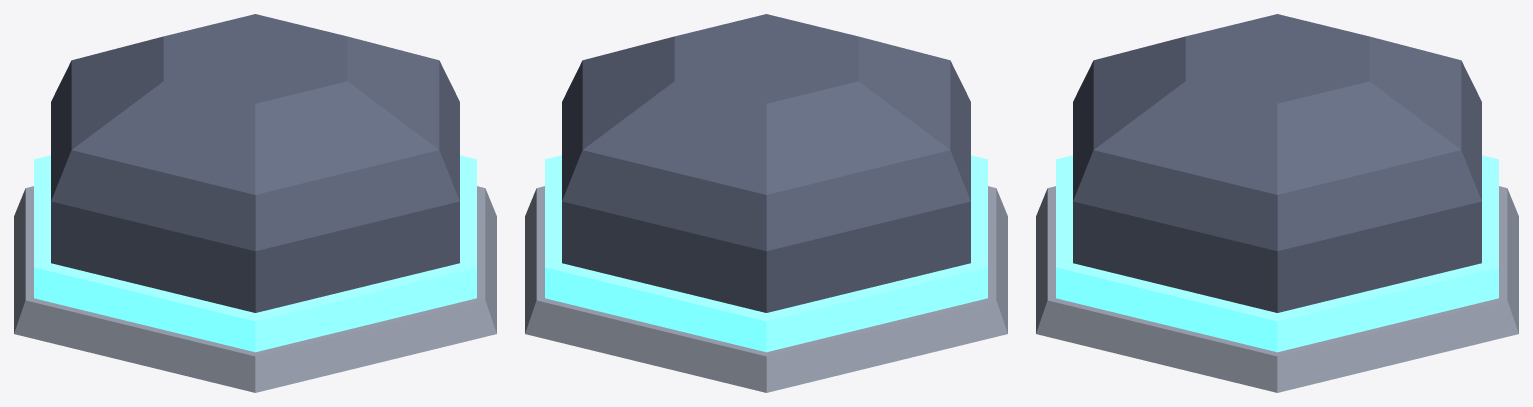
File: hangar_roundGlass.glb
The picture shows the model from 3 angles, left to right: view 1: azimuth 30°, elevation 25°; view 2: azimuth 150°, elevation 25°; view 3: azimuth 270°, elevation 25°; orthographic projection.
Parts seen in each view (by area): view 1: hangar_roundGlass; view 2: hangar_roundGlass; view 3: hangar_roundGlass.
Part boxes in pixels (bbox=[...]): hangar_roundGlass: bbox=[14, 14, 496, 392]; hangar_roundGlass: bbox=[525, 14, 1007, 392]; hangar_roundGlass: bbox=[1036, 14, 1518, 392].
Bounding box in the file's own units: 3.27 × 1.4 × 2.83.
